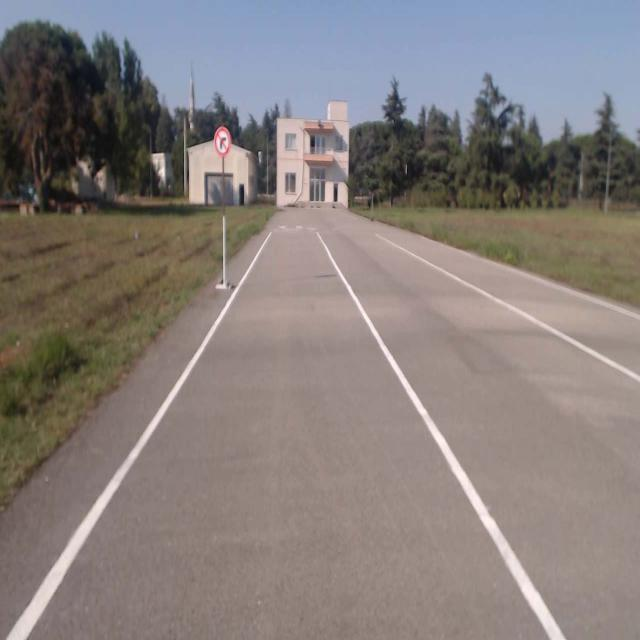sagadonulmez: (213, 127, 231, 157)
